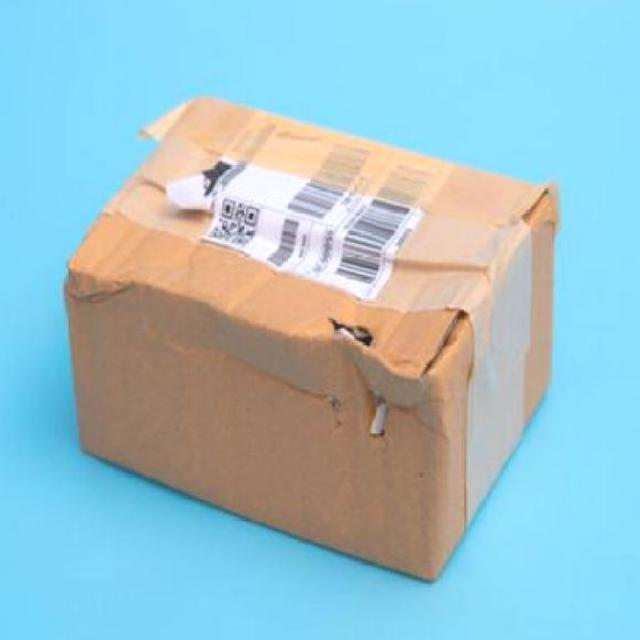crushed: (59, 256, 137, 317)
tear: (330, 319, 456, 446)
